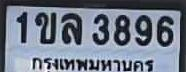1: (16, 11, 26, 42)
3: (91, 13, 108, 44)
6: (156, 15, 173, 46)
8: (113, 14, 129, 45)
9: (134, 14, 151, 45)
A02: (34, 11, 55, 43)
A36: (61, 12, 81, 43)
BKK: (28, 54, 161, 72)
